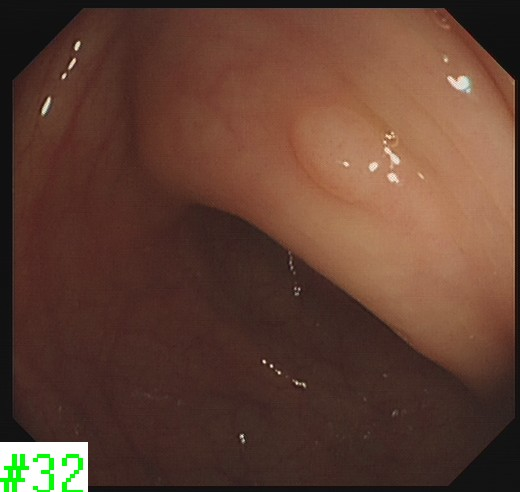adenoma: (285, 102, 394, 212)
